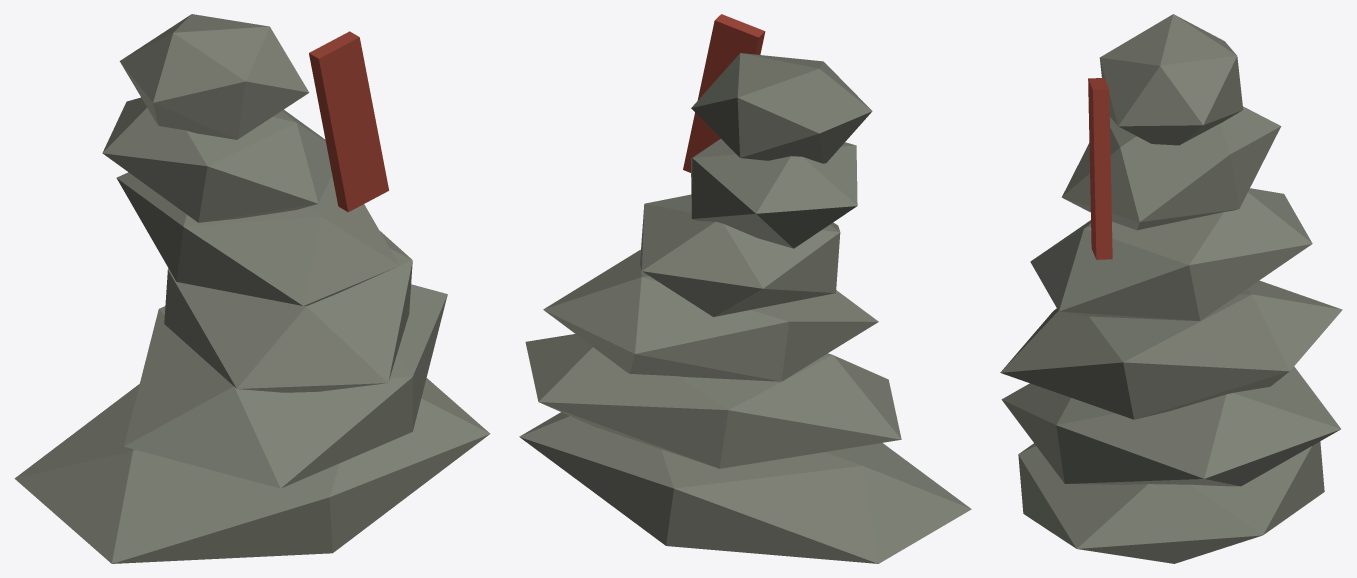
File: cairn.glb
3 views of the same model, side by side, from view 1: azimuth 30°, elevation 25°; view 2: azimuth 150°, elevation 25°; view 3: azimuth 270°, elevation 25° (orthographic). The views are drawn at different scales.
Visible parts, largest first — view 1: cairn; view 2: cairn; view 3: cairn.
Boxes of the visible parts, x1=… form: cairn: x1=14, y1=14, x2=490, y2=563; cairn: x1=519, y1=14, x2=971, y2=563; cairn: x1=1000, y1=14, x2=1342, y2=563.
Bounding box in the file's own units: 0.8102 × 0.9692 × 0.627.
